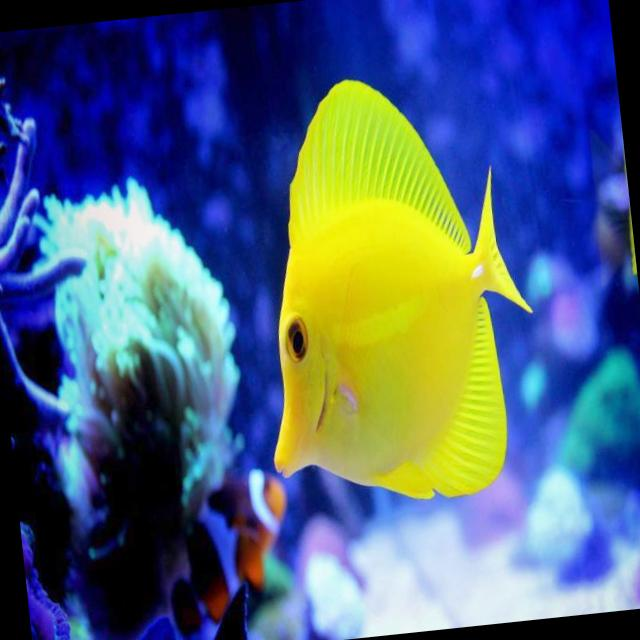TangFish: (234, 55, 552, 518)
